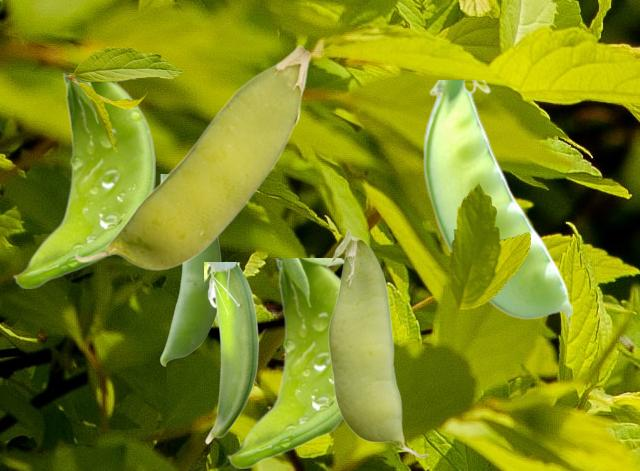pea: (74, 45, 310, 269), (422, 80, 571, 332), (12, 73, 154, 287), (226, 258, 342, 467), (326, 229, 428, 457), (160, 174, 220, 365), (204, 262, 259, 443)
